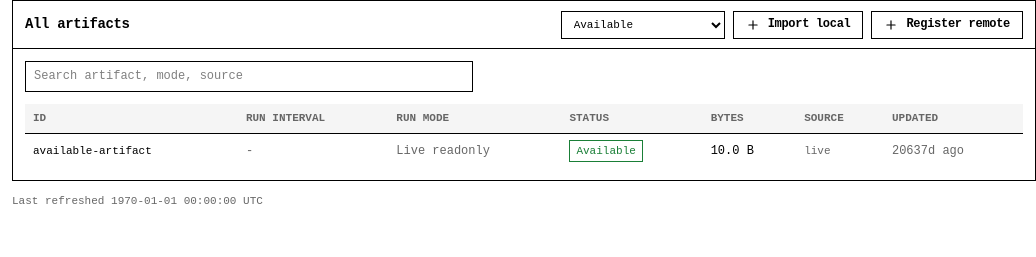
Test: ResearchArtifactsPage › revealing all artifacts via the preset shows archived rows alongside available
Expected: the text "archived-artifact" is not shown
Select "All artifacts" in the dropdown named "artifact preset": coordinates (643, 24) [561,10,725,38]
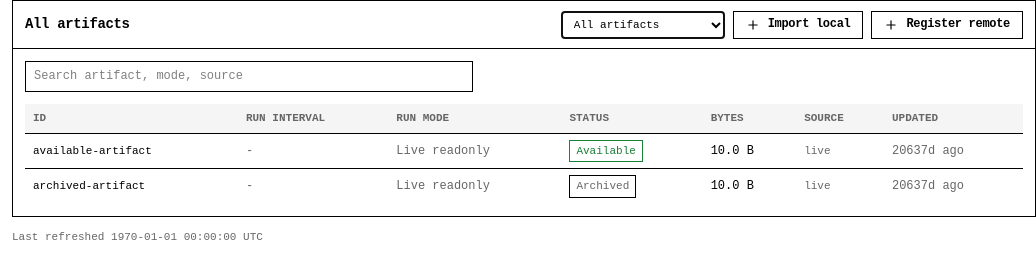
Expected: the link "available-artifact" is shown, [33,145,152,157]
Now the link "archived-artifact" is shown, box [33,180,145,192]
